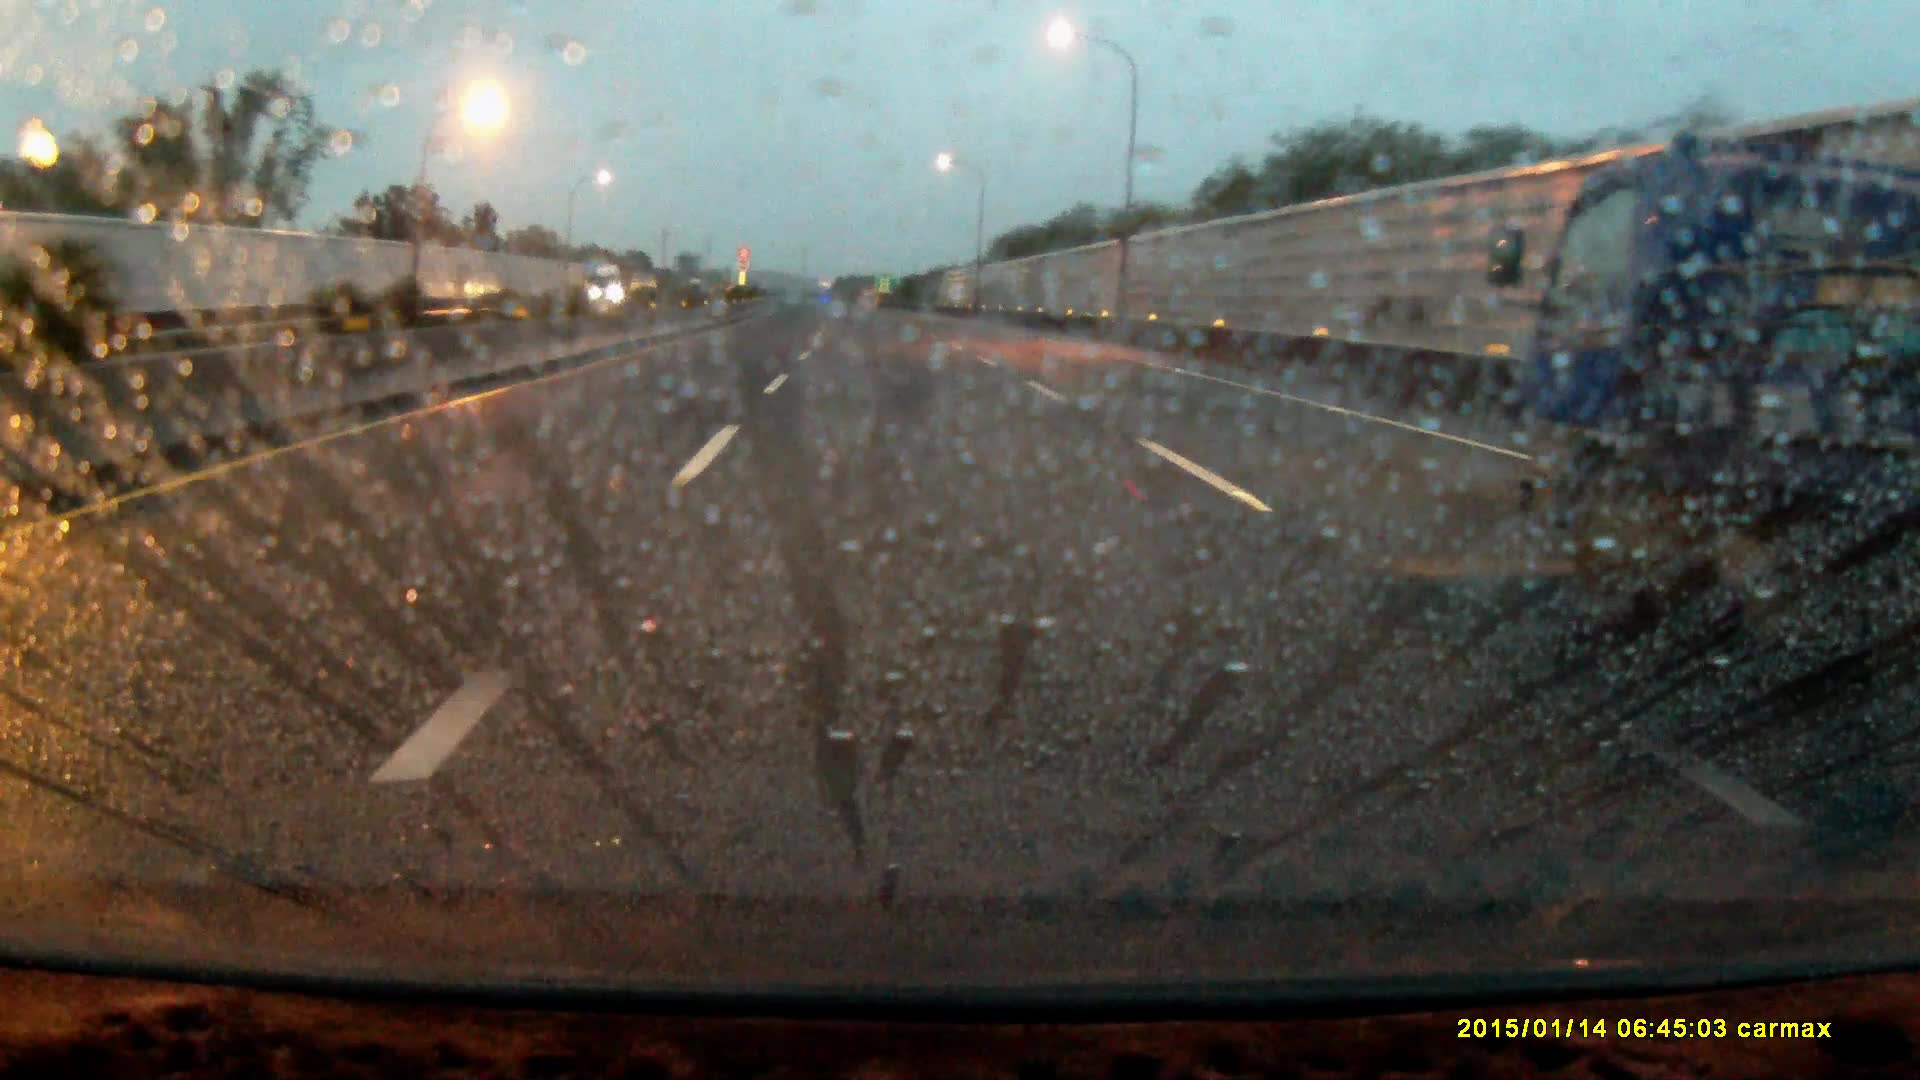vehicle: (1527, 146, 1920, 607), (589, 268, 632, 307)
